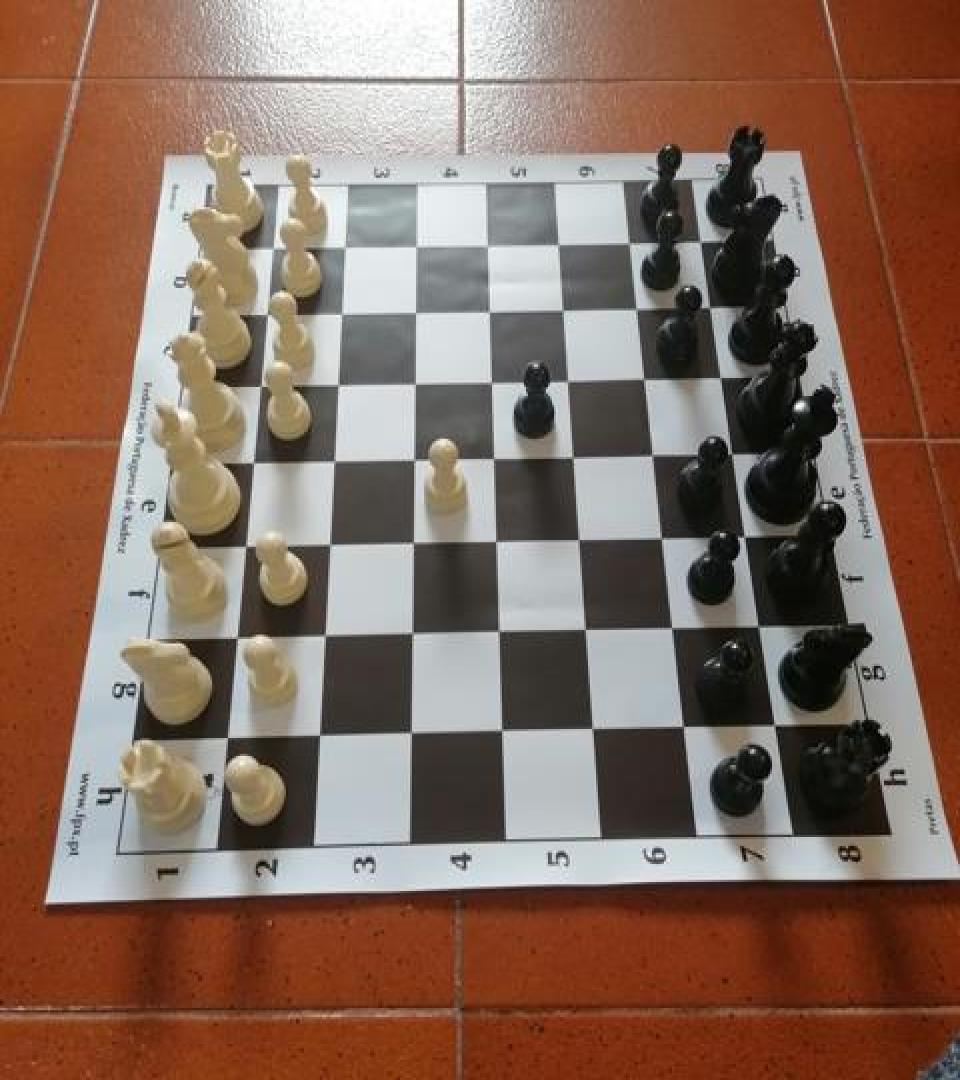xcorner: (486, 615, 518, 652), (397, 616, 429, 653), (687, 223, 719, 259), (615, 223, 647, 259), (543, 224, 575, 260), (471, 224, 503, 260), (398, 224, 430, 260), (325, 225, 357, 261), (251, 225, 283, 261), (698, 289, 730, 325), (623, 289, 655, 325), (548, 290, 580, 326), (473, 290, 505, 326), (398, 292, 430, 328), (322, 292, 354, 328), (245, 292, 277, 328), (709, 360, 741, 396), (632, 361, 664, 397), (554, 361, 586, 397), (476, 362, 508, 398), (397, 364, 429, 400), (319, 364, 351, 400), (239, 364, 271, 400), (722, 436, 754, 472), (641, 438, 673, 474), (560, 439, 592, 475), (479, 440, 511, 476), (397, 441, 429, 477), (315, 442, 347, 478), (233, 442, 265, 478), (735, 520, 767, 556), (651, 522, 683, 558), (567, 523, 599, 559), (482, 524, 514, 560), (397, 526, 429, 562), (312, 526, 344, 562), (226, 528, 258, 564), (750, 611, 782, 647), (662, 612, 694, 648), (574, 614, 606, 650), (308, 619, 340, 655), (218, 620, 250, 656), (766, 710, 798, 746), (674, 712, 706, 748), (582, 713, 614, 749), (490, 716, 522, 752), (397, 716, 429, 752), (303, 719, 335, 755), (209, 721, 241, 757)
